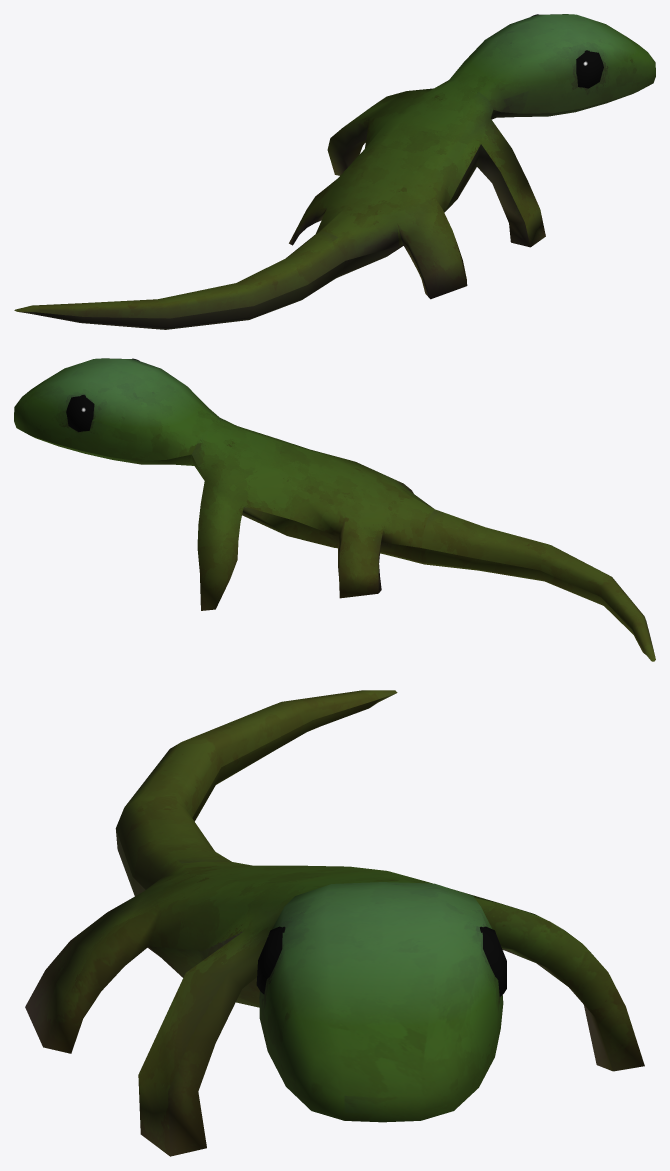
Rendered from lizzard.obj.
3 views of the same model, one above another, from view 1: azimuth 30°, elevation 25°; view 2: azimuth 150°, elevation 25°; view 3: azimuth 270°, elevation 25° (orthographic). The views are drawn at different scales.
Visible parts, largest first — view 1: lizzard1; view 2: lizzard1; view 3: lizzard1.
Part boxes in pixels (x1=…): lizzard1: x1=14, y1=14, x2=655, y2=329; lizzard1: x1=14, y1=358, x2=655, y2=661; lizzard1: x1=25, y1=690, x2=644, y2=1156.
Size of the model in its own units: 4.73 by 1.14 by 2.01.
